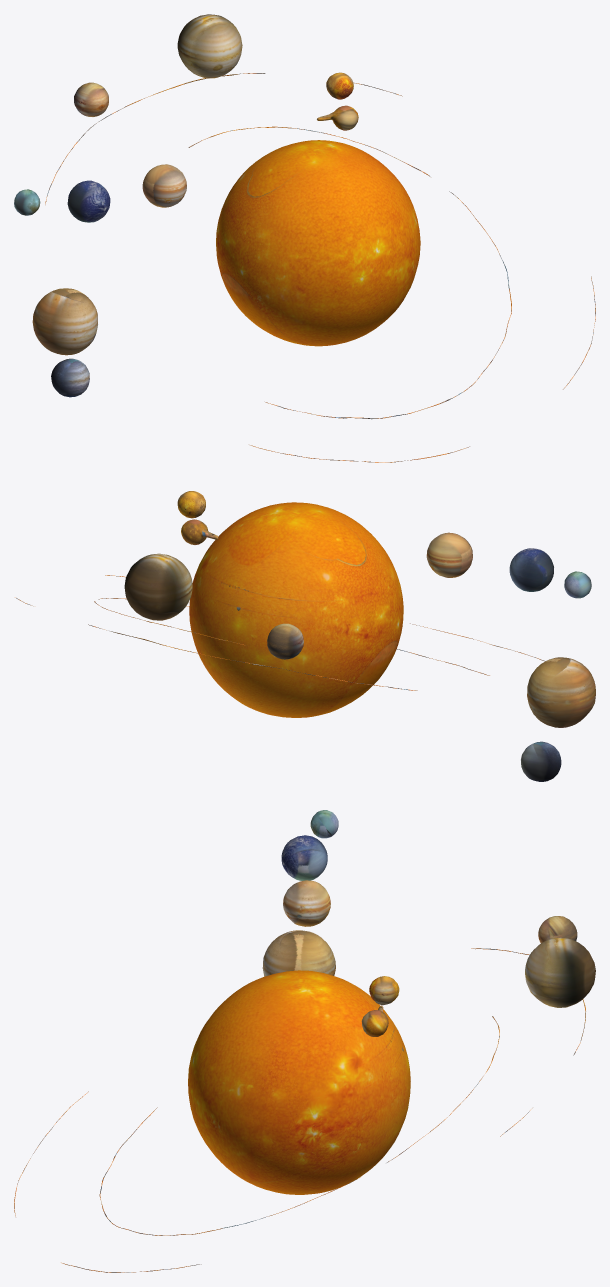
Rendered from sunsys.glb.
3 views of the same model, one above another, from view 1: azimuth 30°, elevation 25°; view 2: azimuth 150°, elevation 25°; view 3: azimuth 270°, elevation 25° (orthographic). The views are drawn at different scales.
Bounding box in the file's own units: 1.75 × 0.8039 × 1.56.
Materials: 1 (1 with a texture image).
